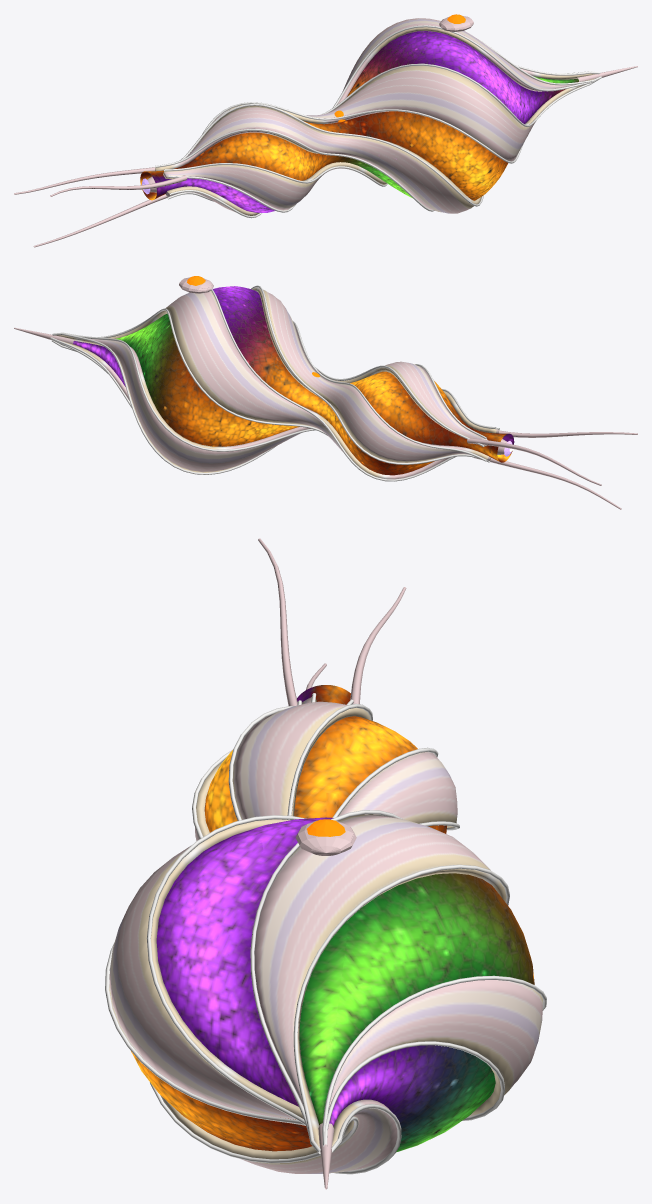
File: ithar_GV2.gltf
3 renders of one model, top to bottom at view 1: azimuth 30°, elevation 25°; view 2: azimuth 150°, elevation 25°; view 3: azimuth 270°, elevation 25°, orthographic. The views are drawn at different scales.
Parts seen in each view (by area): view 1: ithar_GV2; view 2: ithar_GV2; view 3: ithar_GV2.
Boxes of the visible parts, x1,y1,x2,y2 form: ithar_GV2: (14, 15, 637, 247); ithar_GV2: (14, 277, 637, 509); ithar_GV2: (105, 538, 546, 1189).
Size of the model in its own units: 1 by 0.29 by 0.3168.
Materials: 5 (2 with a texture image).
